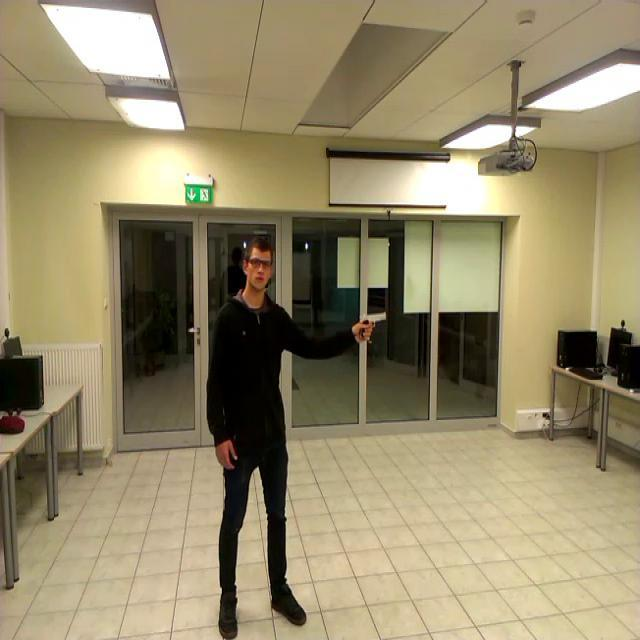Gun: (360, 311, 387, 339)
